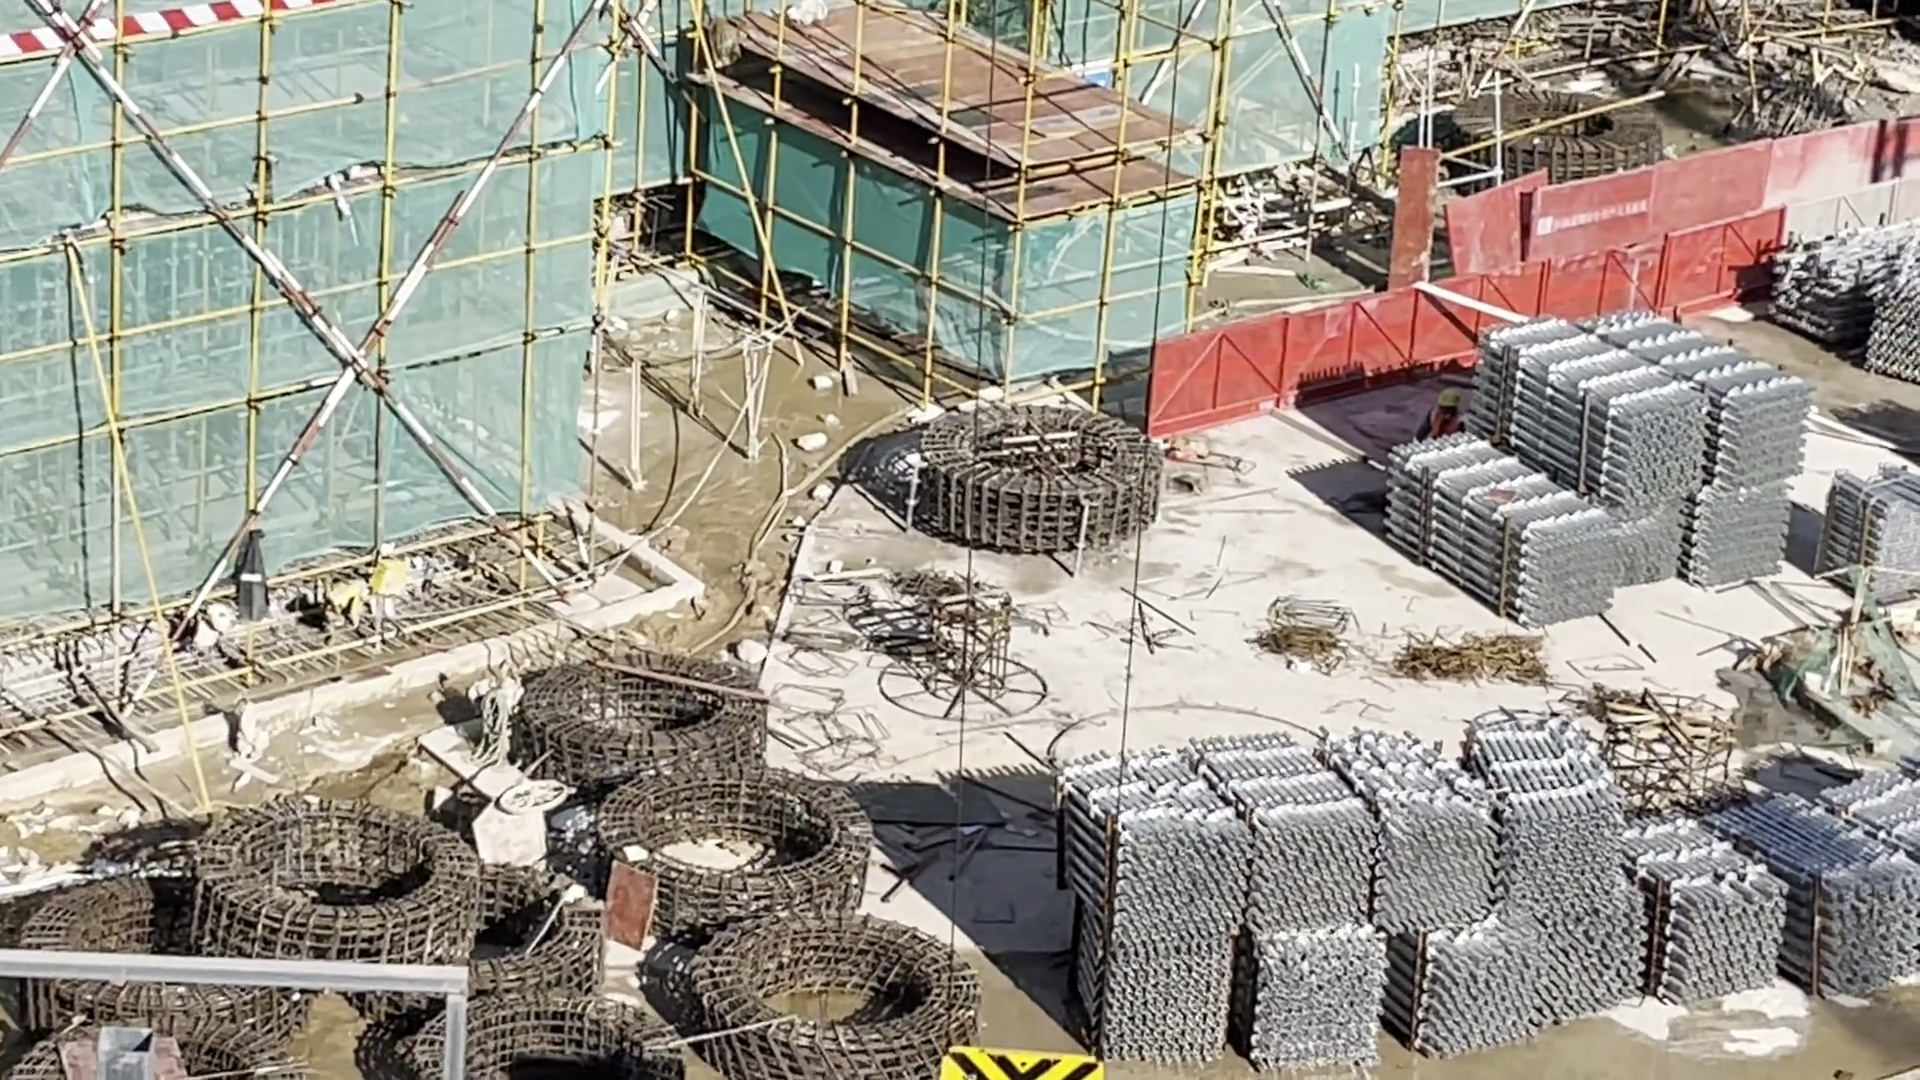fence: (1152, 173, 1920, 433)
helmet: (1437, 382, 1463, 409)
person: (1425, 383, 1465, 446)
scaffold: (1073, 716, 1919, 1078), (1382, 313, 1805, 622), (1796, 250, 1920, 381), (1825, 465, 1920, 599)
